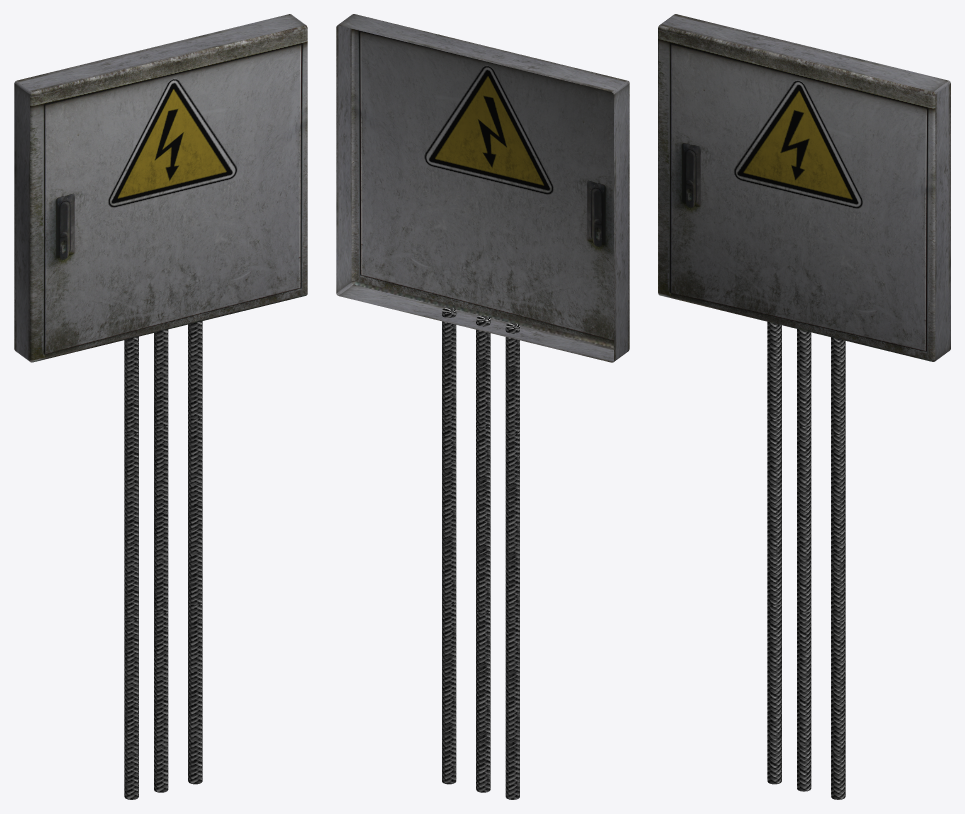
File: PowerBox03.FBX
The picture shows the model from 3 angles, left to right: view 1: azimuth 30°, elevation 25°; view 2: azimuth 150°, elevation 25°; view 3: azimuth 330°, elevation 25°; orthographic projection.
Parts seen in each view (by area): view 1: PowerBox03Metal; view 2: PowerBox03Metal; view 3: PowerBox03Metal.
Boxes of the visible parts, x1,y1,x2,y2 form: PowerBox03Metal: (14, 14, 307, 799); PowerBox03Metal: (336, 14, 629, 799); PowerBox03Metal: (658, 14, 950, 799).
Size of the model in its own units: 63.15 by 160 by 6.61.
